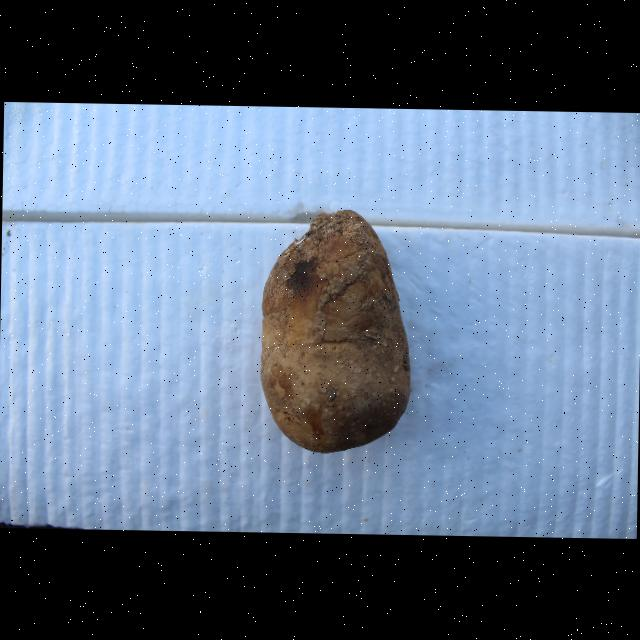Diseased-fungal potato: (256, 202, 417, 459)
